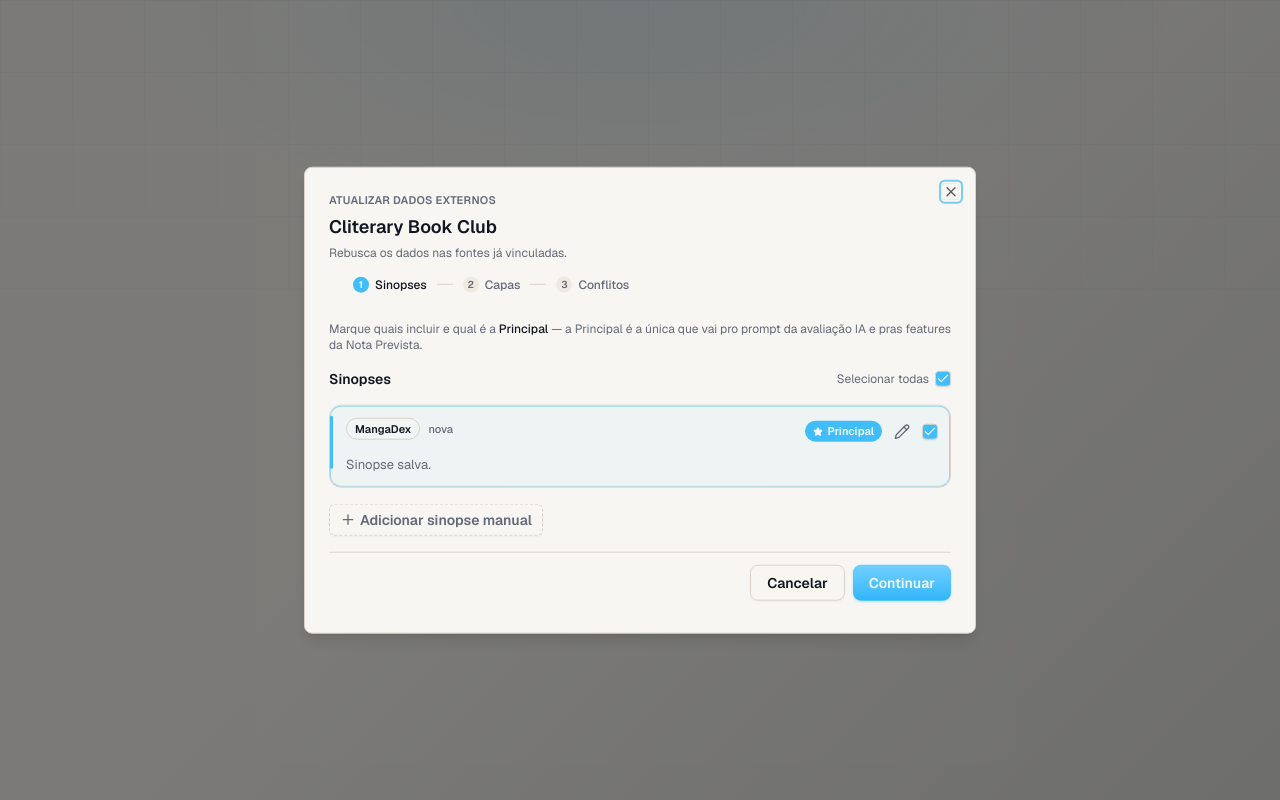
Atualizar dados externos — passo de conflitos › nomeia a fonte no lugar de 'Externo'
Click the button "Continuar".
click(902, 582)  # box top-left (853, 564), bottom-right (951, 600)
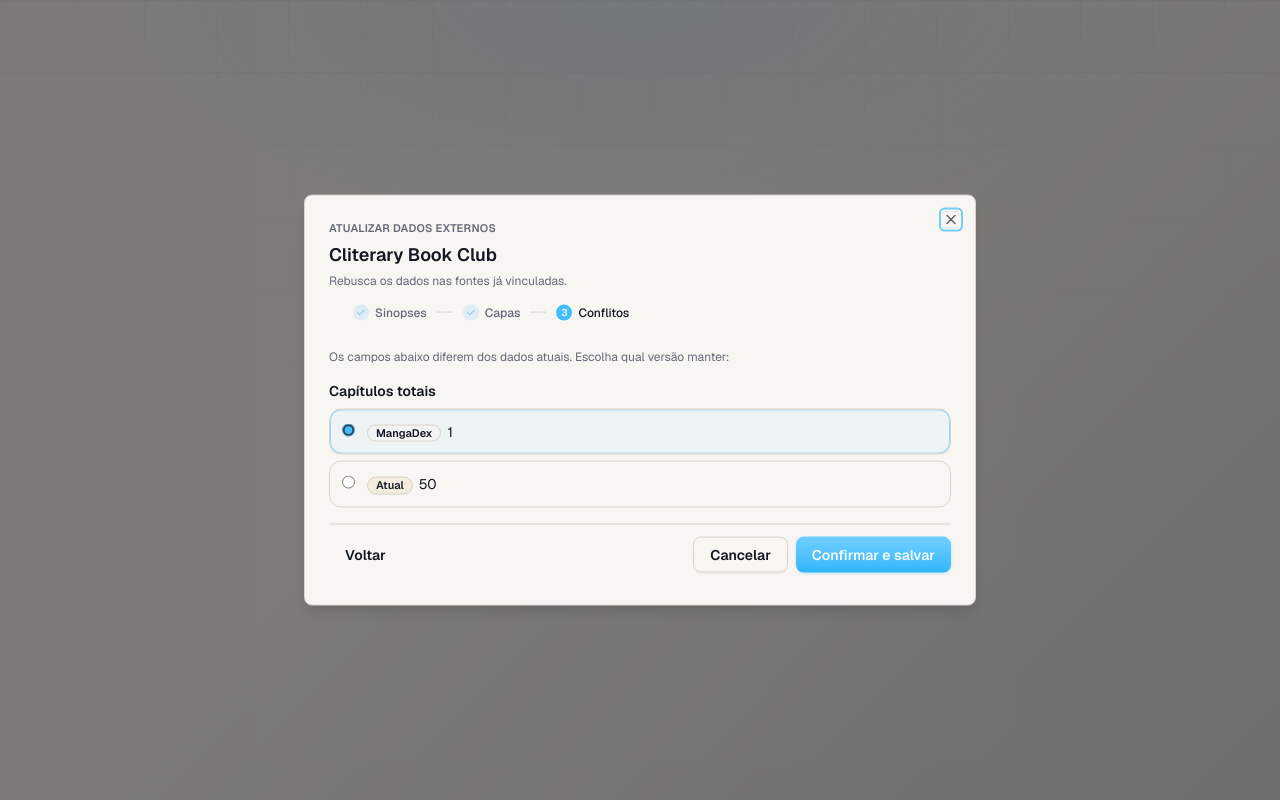
Now the button "Confirmar e salvar" is shown, box top-left (796, 536), bottom-right (951, 572)
